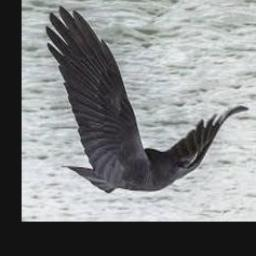Crow: (45, 7, 250, 196)
